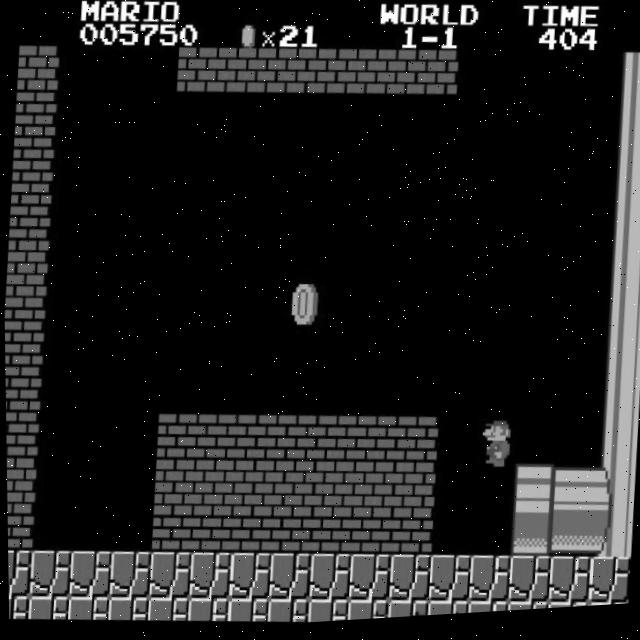1- brick_block: (175, 48, 220, 99), (151, 460, 196, 511), (148, 505, 193, 556), (191, 460, 236, 511), (231, 461, 276, 512), (228, 507, 273, 558), (271, 462, 316, 513), (268, 508, 313, 559), (308, 509, 353, 560), (348, 510, 393, 561), (414, 53, 459, 104), (388, 511, 433, 562), (215, 48, 259, 100), (193, 415, 238, 465), (233, 416, 278, 466), (393, 419, 438, 469), (5, 226, 49, 277), (189, 506, 233, 557), (255, 50, 299, 101), (295, 50, 339, 101), (335, 51, 379, 102), (311, 463, 355, 514), (375, 52, 419, 103), (351, 464, 395, 515), (391, 465, 435, 516), (13, 89, 57, 139), (154, 414, 198, 464), (274, 417, 318, 467), (314, 418, 358, 468), (354, 419, 398, 469), (16, 43, 59, 94), (8, 181, 51, 232), (11, 136, 54, 186), (3, 272, 46, 322), (4, 317, 43, 368), (4, 363, 41, 414), (5, 410, 37, 459), (5, 456, 35, 505), (6, 501, 32, 551)
11- little_mario: (471, 421, 518, 474)
14- pipe: (550, 469, 595, 520), (595, 377, 640, 428), (587, 515, 632, 566), (592, 424, 637, 474), (548, 514, 592, 565), (590, 470, 634, 520), (598, 332, 640, 383), (601, 286, 640, 336), (603, 240, 640, 291), (606, 194, 640, 245), (608, 149, 640, 199), (611, 104, 640, 154), (613, 58, 640, 108)
15- pipe_head: (510, 468, 555, 519), (508, 514, 552, 565)
17- undestructible_block: (425, 557, 470, 609), (66, 549, 111, 600), (106, 550, 151, 601), (345, 556, 390, 607), (385, 557, 430, 608), (465, 559, 510, 610), (505, 559, 550, 610), (584, 561, 629, 612), (26, 548, 70, 599), (146, 551, 190, 602), (186, 552, 230, 603), (226, 553, 270, 604), (266, 554, 310, 605), (306, 555, 350, 606), (545, 560, 589, 611), (24, 594, 68, 622), (64, 595, 108, 623), (105, 595, 148, 623), (145, 597, 188, 625), (184, 598, 227, 626), (224, 598, 267, 626), (264, 600, 307, 628), (6, 547, 30, 597), (304, 600, 347, 626), (344, 601, 387, 624), (383, 601, 426, 622), (423, 603, 466, 621), (463, 604, 506, 619), (503, 605, 546, 617), (7, 593, 26, 619), (543, 606, 586, 615), (583, 606, 625, 613)
2- coin: (281, 279, 326, 330)
